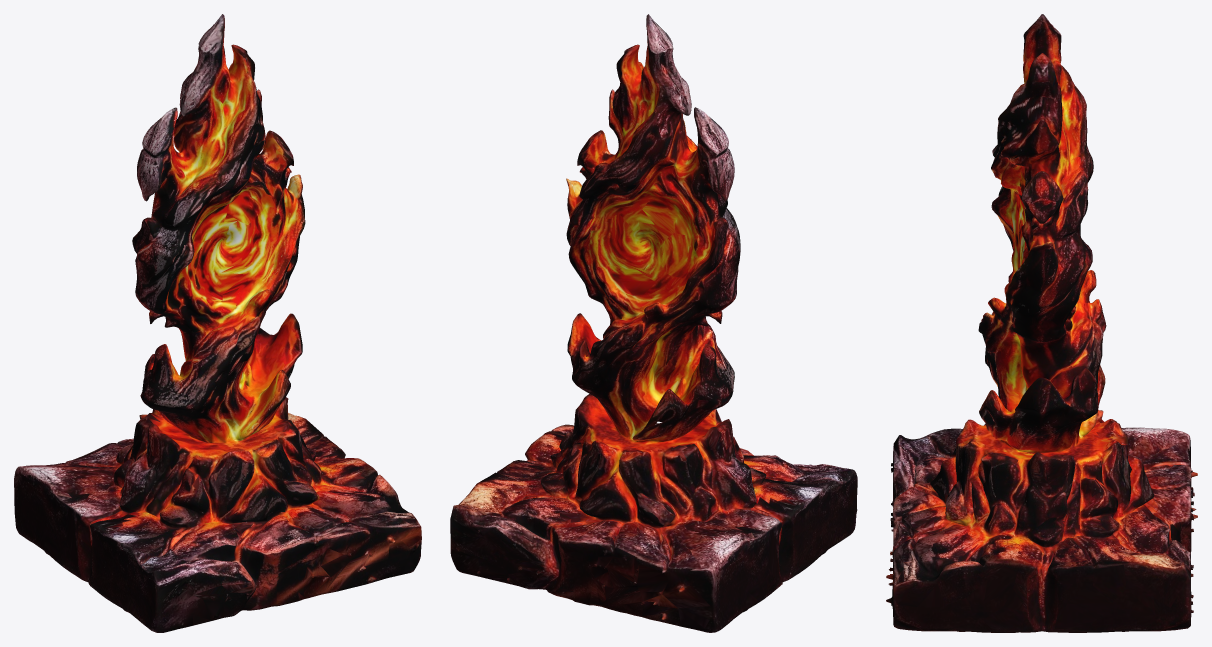
File: pele_idol.glb
The picture shows the model from 3 angles, left to right: view 1: azimuth 30°, elevation 25°; view 2: azimuth 150°, elevation 25°; view 3: azimuth 270°, elevation 25°; orthographic projection. The views are drawn at different scales.
Parts seen in each view (by area): view 1: tripo_node_66466397-e360-4925-9490-82e7dbc29cc1; view 2: tripo_node_66466397-e360-4925-9490-82e7dbc29cc1; view 3: tripo_node_66466397-e360-4925-9490-82e7dbc29cc1.
Boxes of the visible parts, x1,y1,x2,y2 form: tripo_node_66466397-e360-4925-9490-82e7dbc29cc1: [14, 14, 421, 632]; tripo_node_66466397-e360-4925-9490-82e7dbc29cc1: [450, 14, 857, 632]; tripo_node_66466397-e360-4925-9490-82e7dbc29cc1: [886, 14, 1197, 632].
Bounding box in the file's own units: 0.511 × 0.9811 × 0.4993.
Materials: 1 (1 with a texture image).
